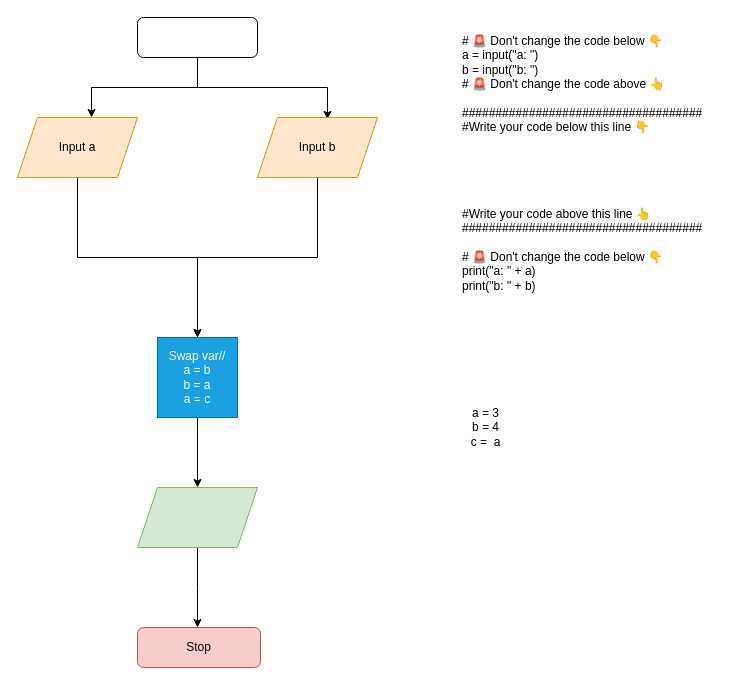
The diagram is 748 pixels wide and 685 high, and some of its shapes have lost their labels. Each missing label, with the box of its shape:
Output b = a a = b: (136, 486, 258, 548)
Start: (136, 16, 258, 58)
